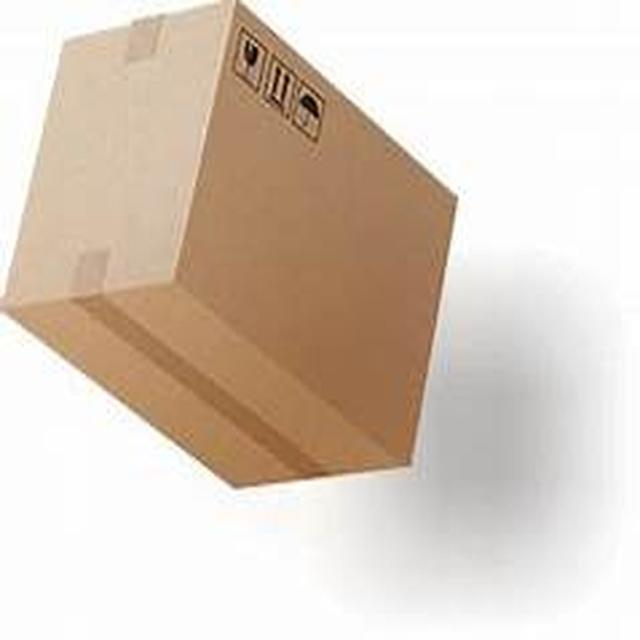box: (24, 25, 442, 506)
